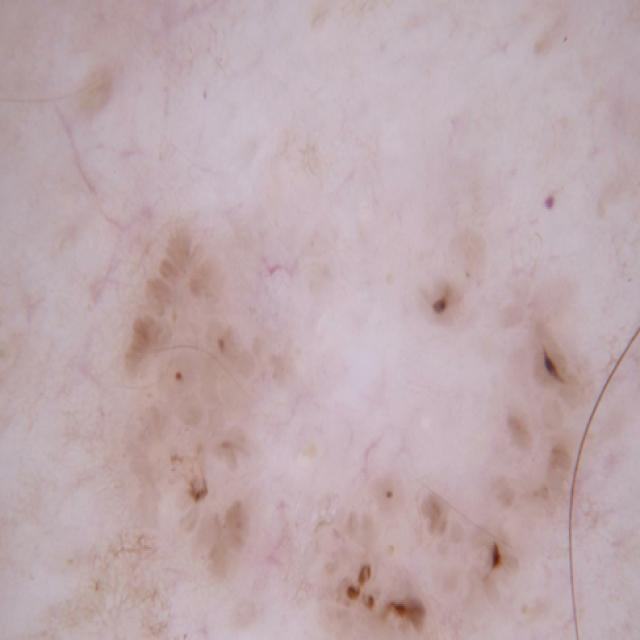Carcinoma: (84, 159, 624, 640)
